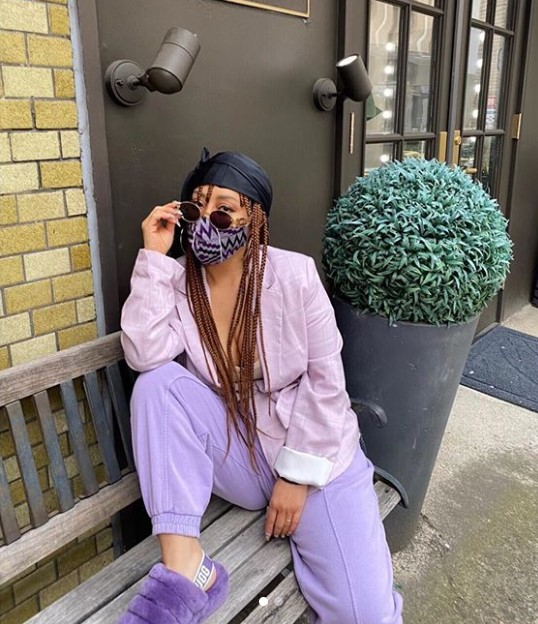face_with_mask: (180, 154, 273, 264)
